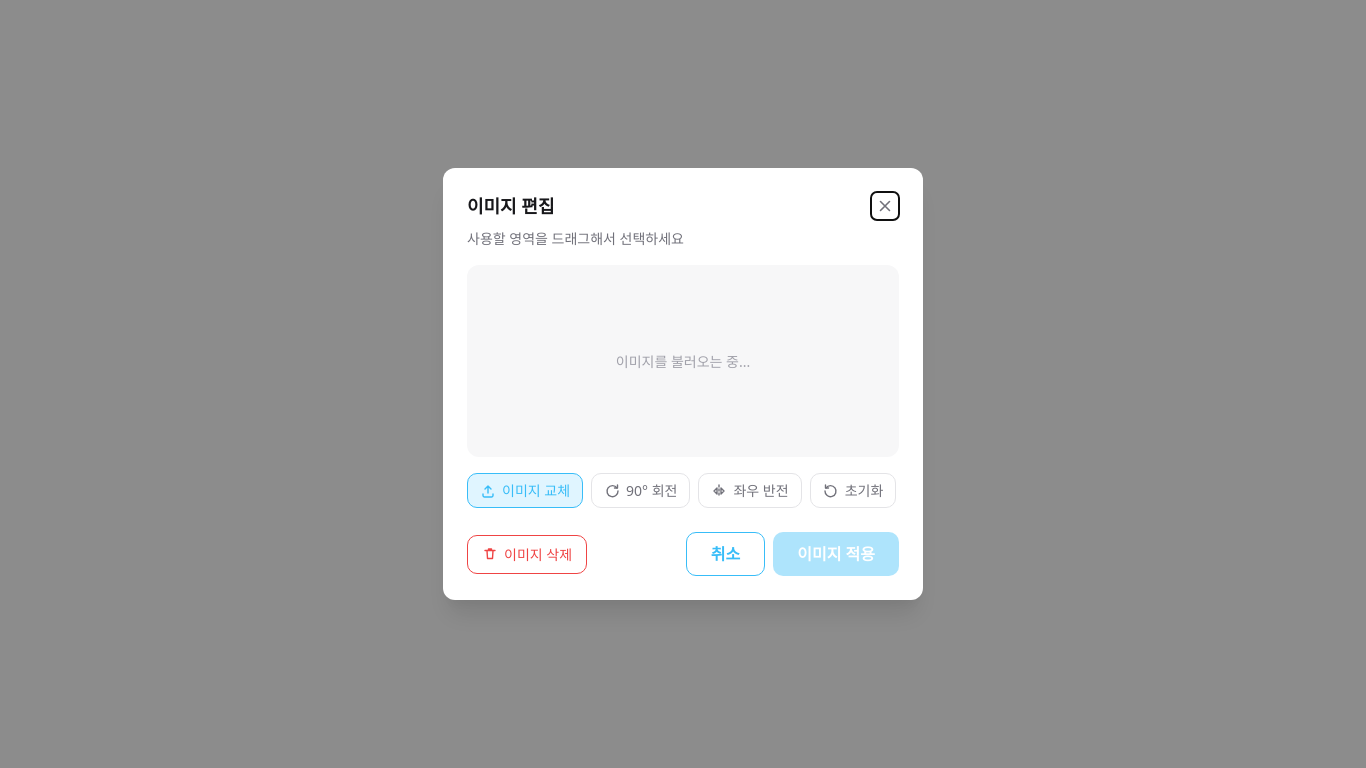
it: ImageEditModal › 「이미지 삭제」 클릭 시 확인 모달이 열린다
The image size is (1366, 768).
Expected: the text "이미지를 삭제하시겠습니까?" is not shown
Step 1. Click the button "이미지 삭제" → (527, 554), box [467,534,587,574]
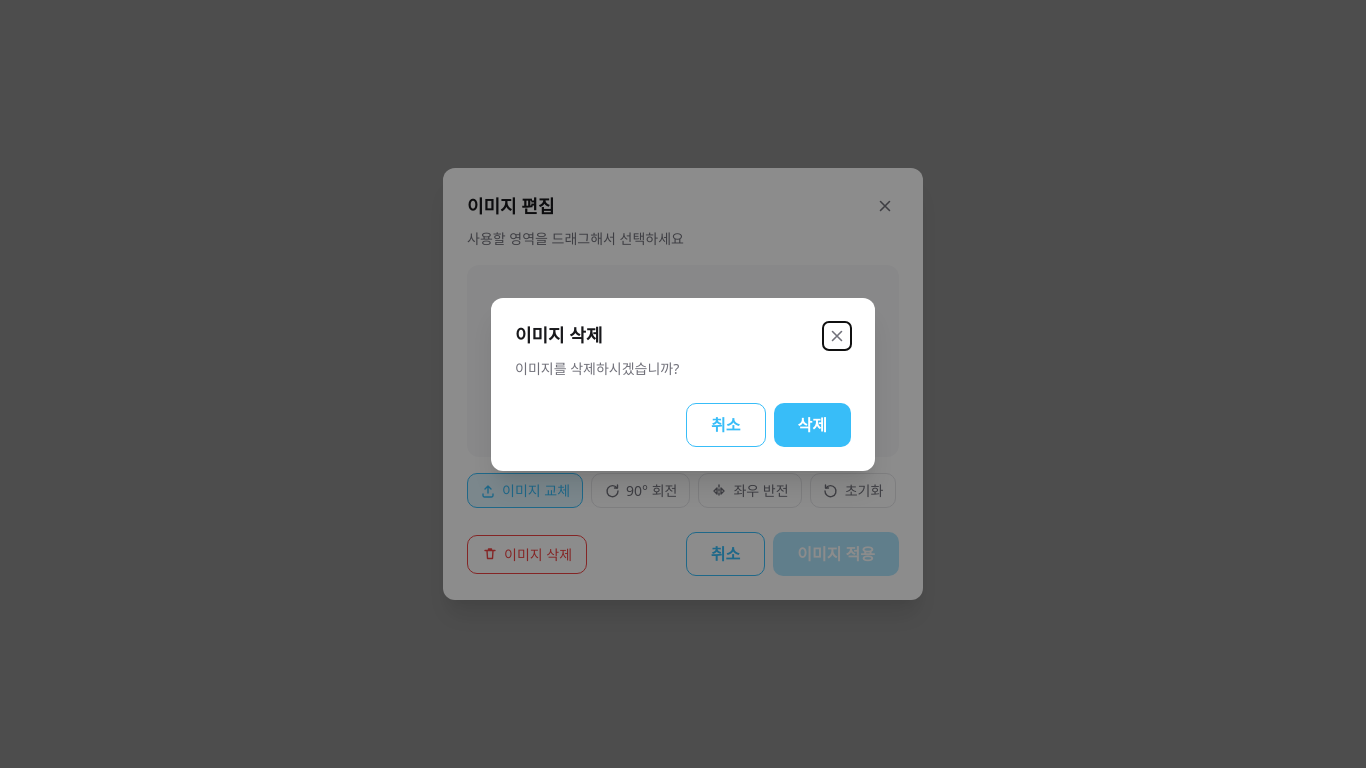
Result: the text "이미지를 삭제하시겠습니까?" is shown at [515,358,679,378]
